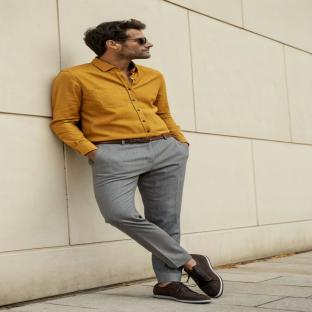Human: (51, 19, 223, 303)
